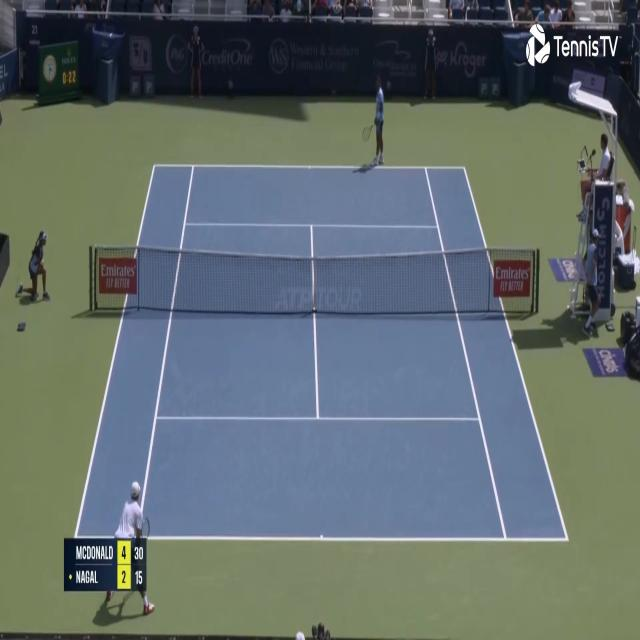tennis-player: (104, 480, 158, 623), (361, 72, 386, 170)
